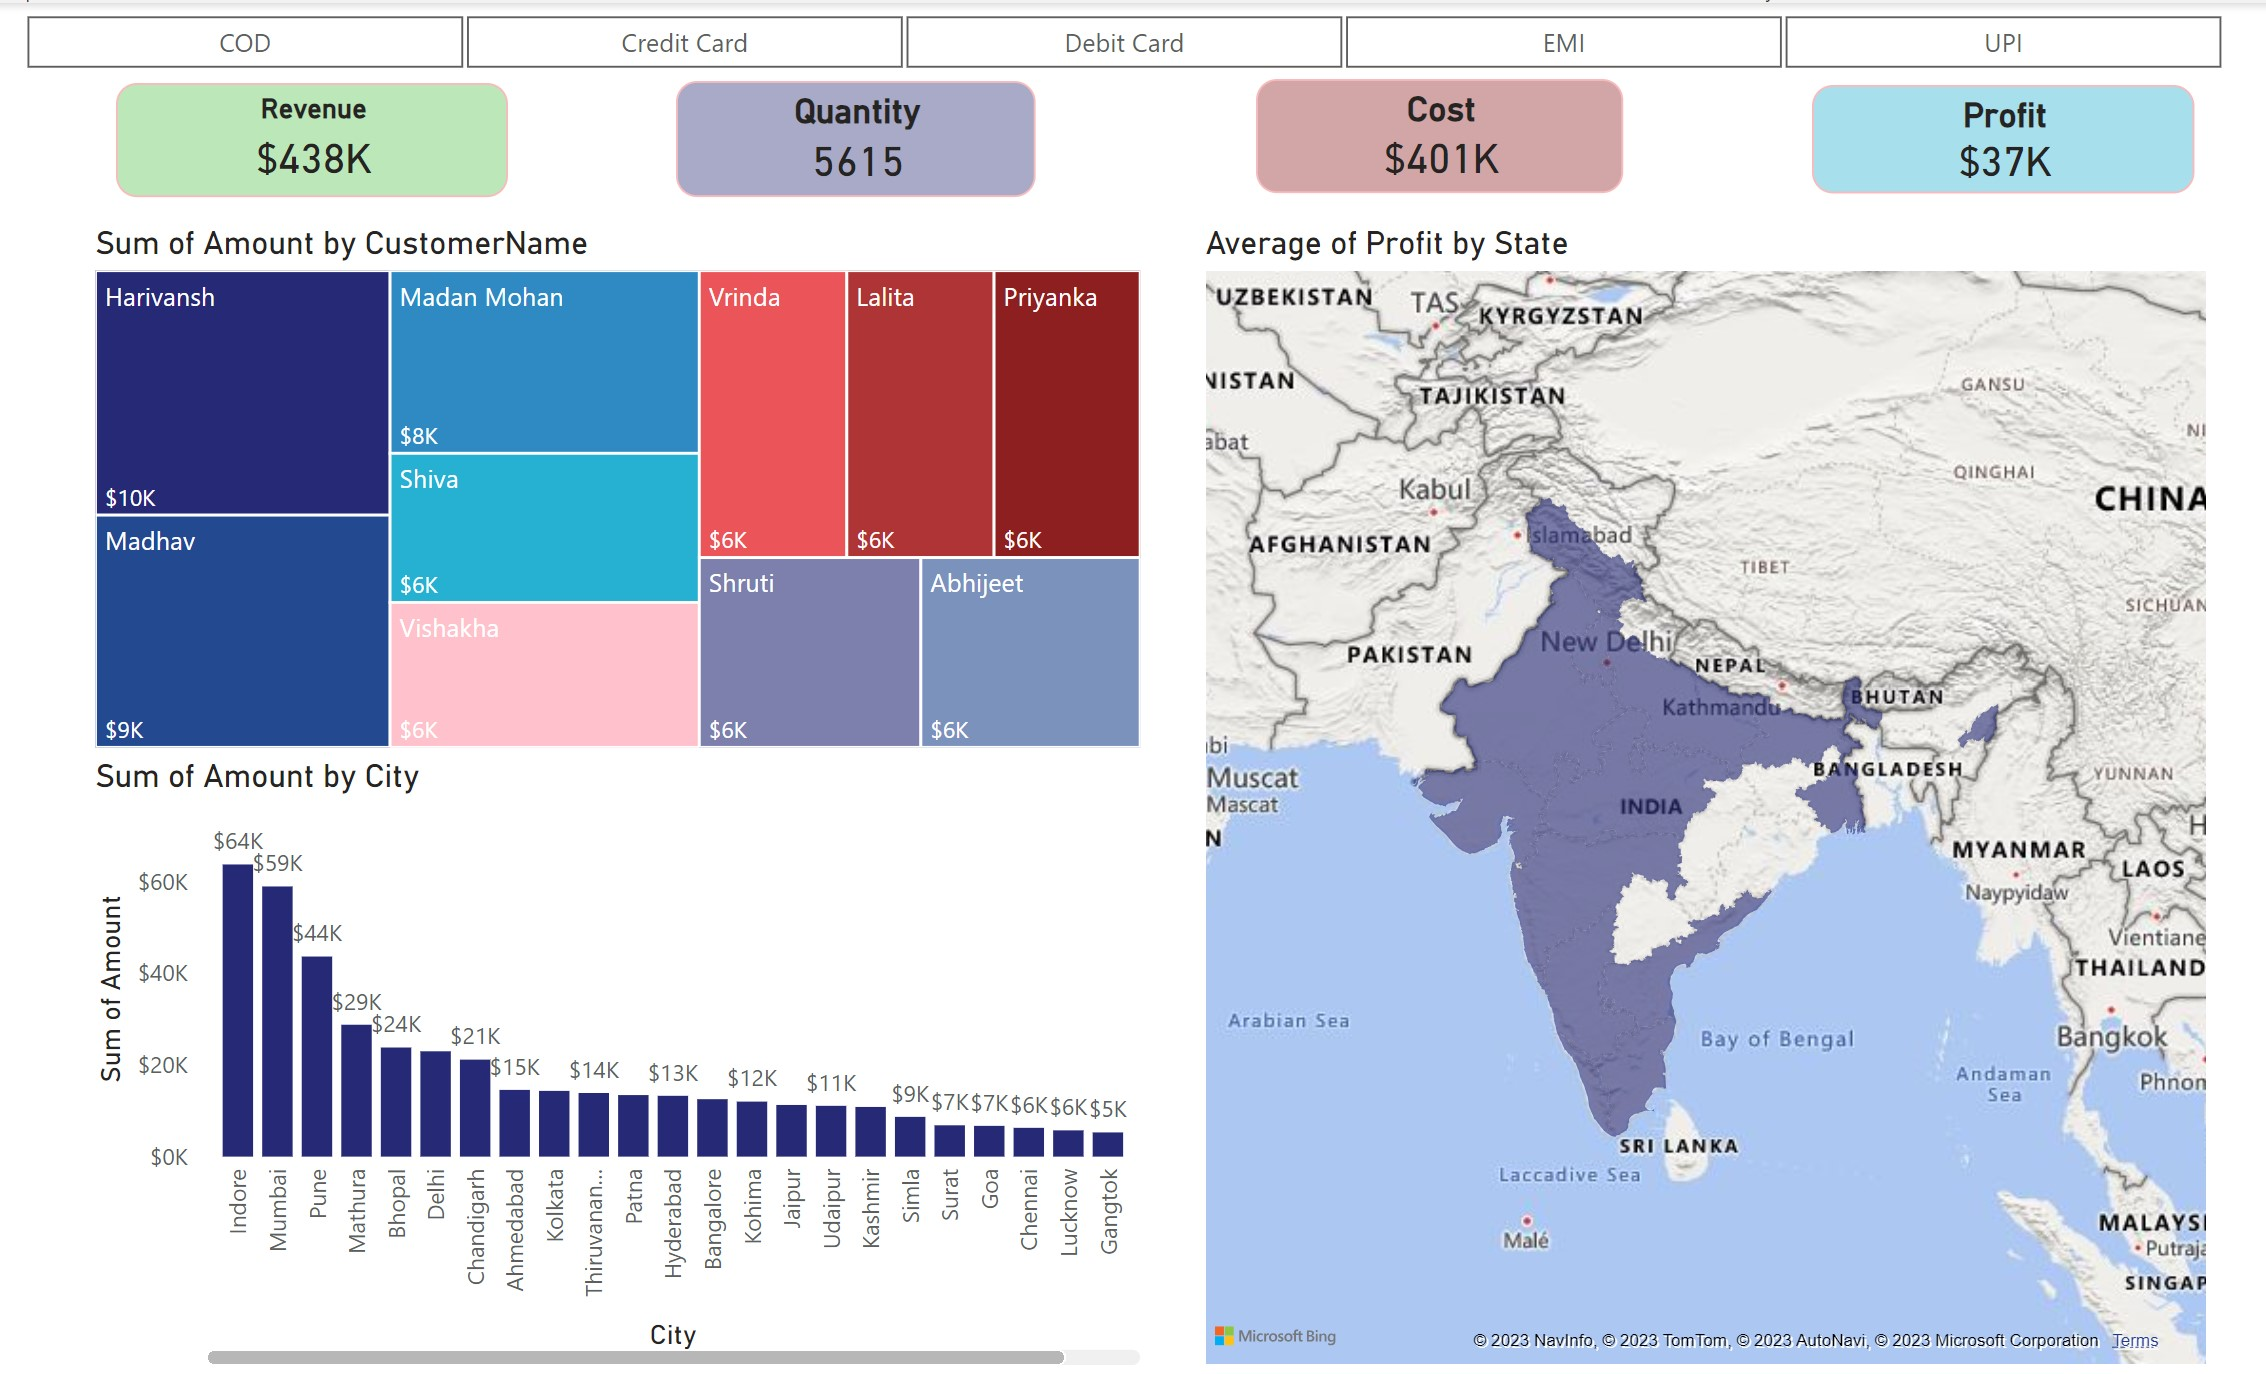

The dashboard page shown, as its layout file describes it:
{"tool":"powerbi","page":{"name":"Customer Portfolio","canvas":[1280,720],"ordinal":2},"visuals":[{"type":"treemap","fields":{"Group":["Orders.CustomerName"],"Values":["Details.Amount"]},"box":[57,117,559,279],"z":0},{"type":"filledMap","fields":{"Category":["Orders.State"],"Y":["Details.Profit"]},"box":[640,117,536,603],"z":1000},{"type":"clusteredColumnChart","fields":{"Category":["Orders.City"],"Y":["Details.Amount"]},"box":[57,396,559,324],"z":2000},{"type":"card","title":"Revenue","fields":{"Values":["Details.Amount"]},"box":[73,42,206,60],"z":3000},{"type":"card","title":"Quantity","fields":{"Values":["Details.Quantity"]},"box":[367,41,189,61],"z":4000},{"type":"card","title":"Cost","fields":{"Values":["Details.Cost"]},"box":[672,40,193,60],"z":5000},{"type":"card","title":"Profit","fields":{"Values":["Details.Profit"]},"box":[964,43,201,57],"z":6000},{"type":"slicer","fields":{"Values":["Details.PaymentMode"]},"box":[0,0,1203,35],"z":7000}]}

Visuals, with their boxes on the page's 1280x720 design canvas (x1, y1, x2, y2). These are canvas units, not pixel positions in the 2266x1374 screenshot, which may show the page scaled, cropped or inside an application window:
treemap - Orders.CustomerName x Details.Amount: x1=57 y1=117 x2=616 y2=396
filledMap - Orders.State x Details.Profit: x1=640 y1=117 x2=1176 y2=720
clusteredColumnChart - Orders.City x Details.Amount: x1=57 y1=396 x2=616 y2=720
"Revenue" card: x1=73 y1=42 x2=279 y2=102
"Quantity" card: x1=367 y1=41 x2=556 y2=102
"Cost" card: x1=672 y1=40 x2=865 y2=100
"Profit" card: x1=964 y1=43 x2=1165 y2=100
slicer - Details.PaymentMode: x1=0 y1=0 x2=1203 y2=35
